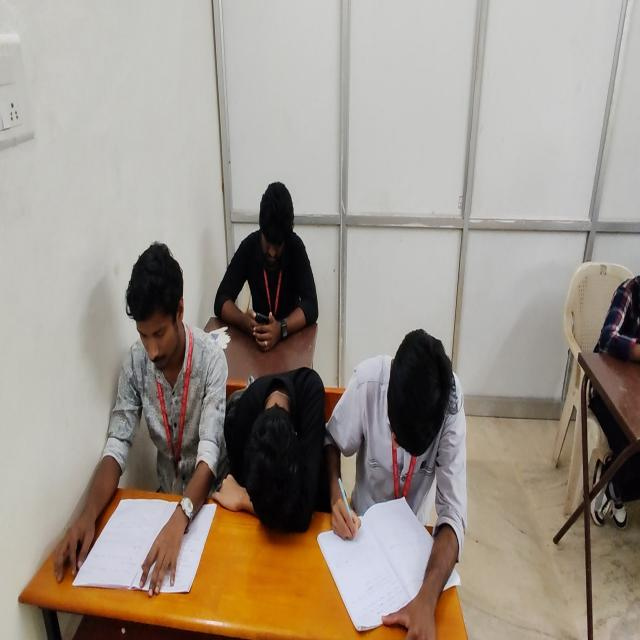reading: (53, 241, 231, 600), (320, 329, 465, 640)
sleeping: (217, 363, 328, 537)
using_mobile: (213, 181, 319, 349)
